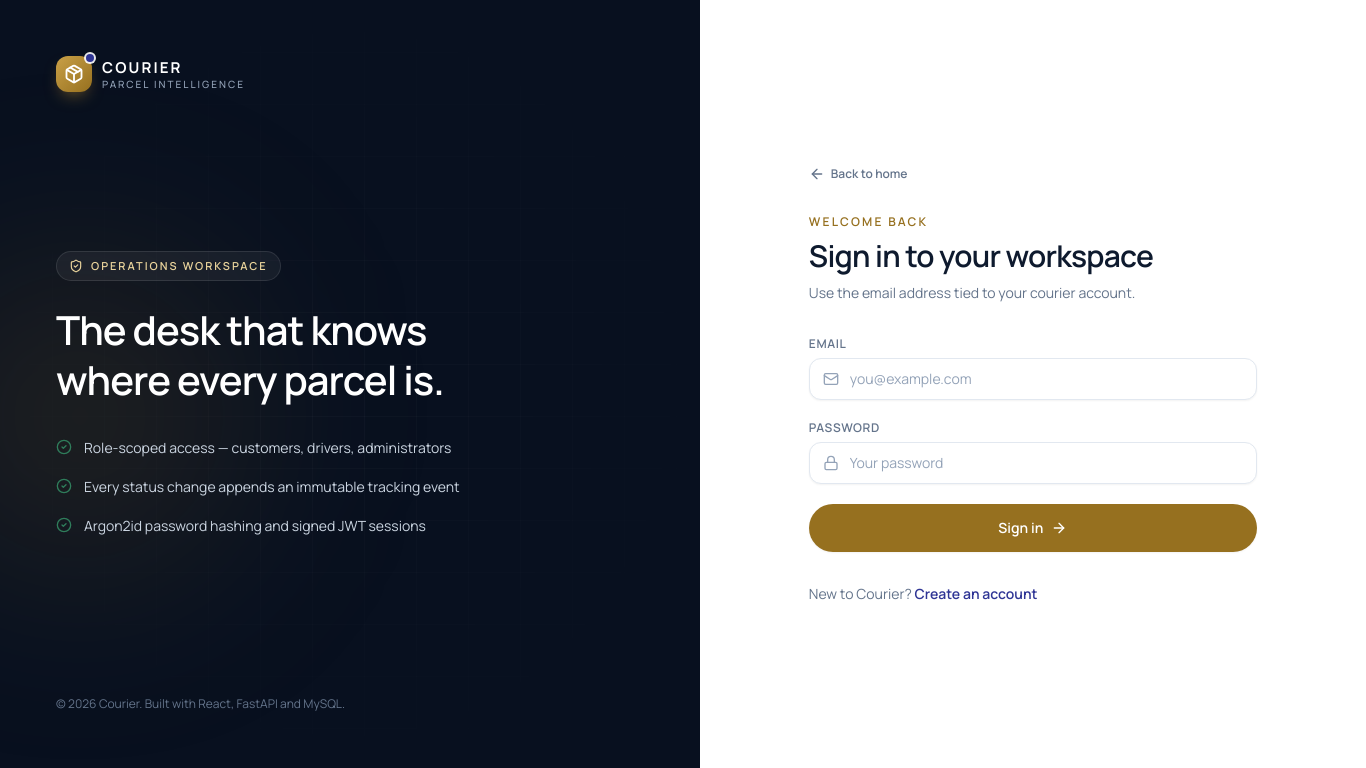
Test: LoginPage › rejects malformed email addresses
The width and height of the screenshot is (1366, 768).
Type "not-an-email" into the field labelled "Email" at [1033, 379], box [809, 358, 1257, 400]
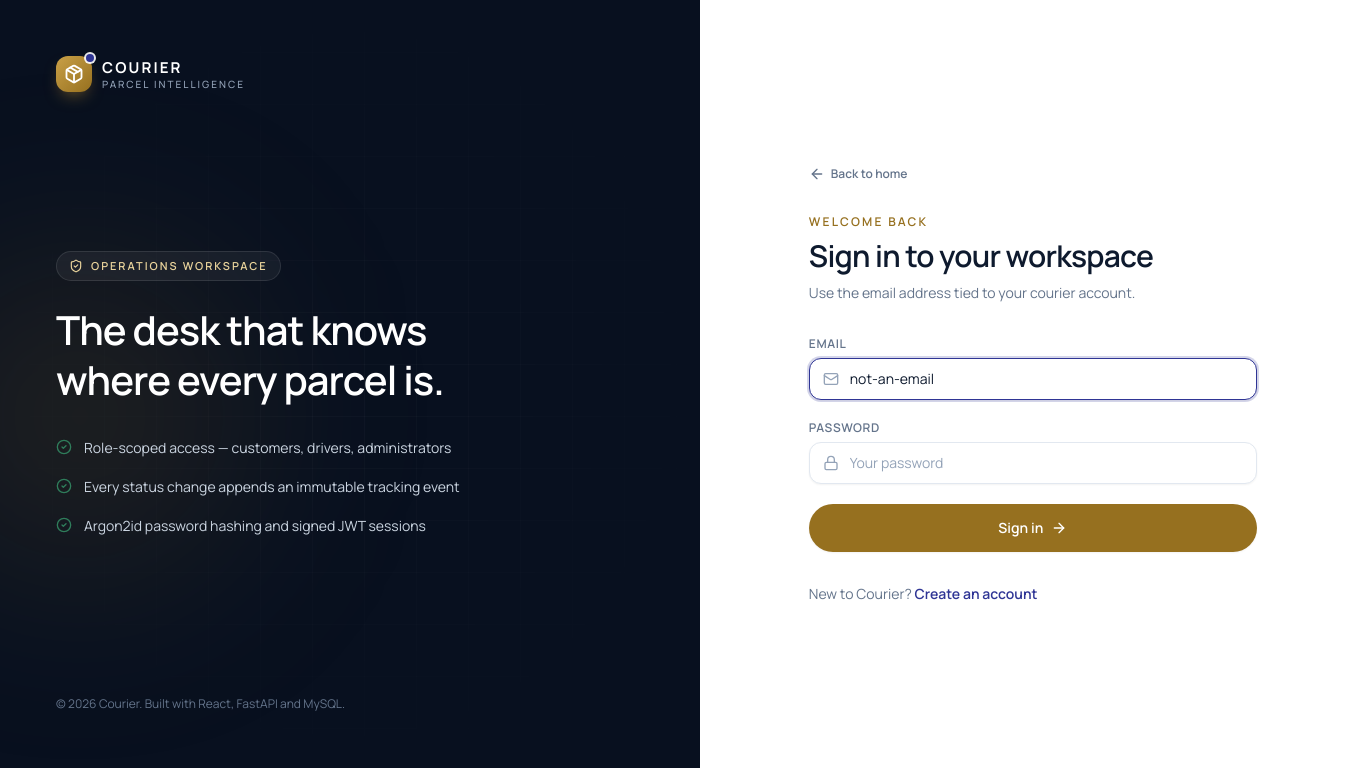
Type "Password1" into the password field labelled "Password" at [1033, 463], box [809, 442, 1257, 484]
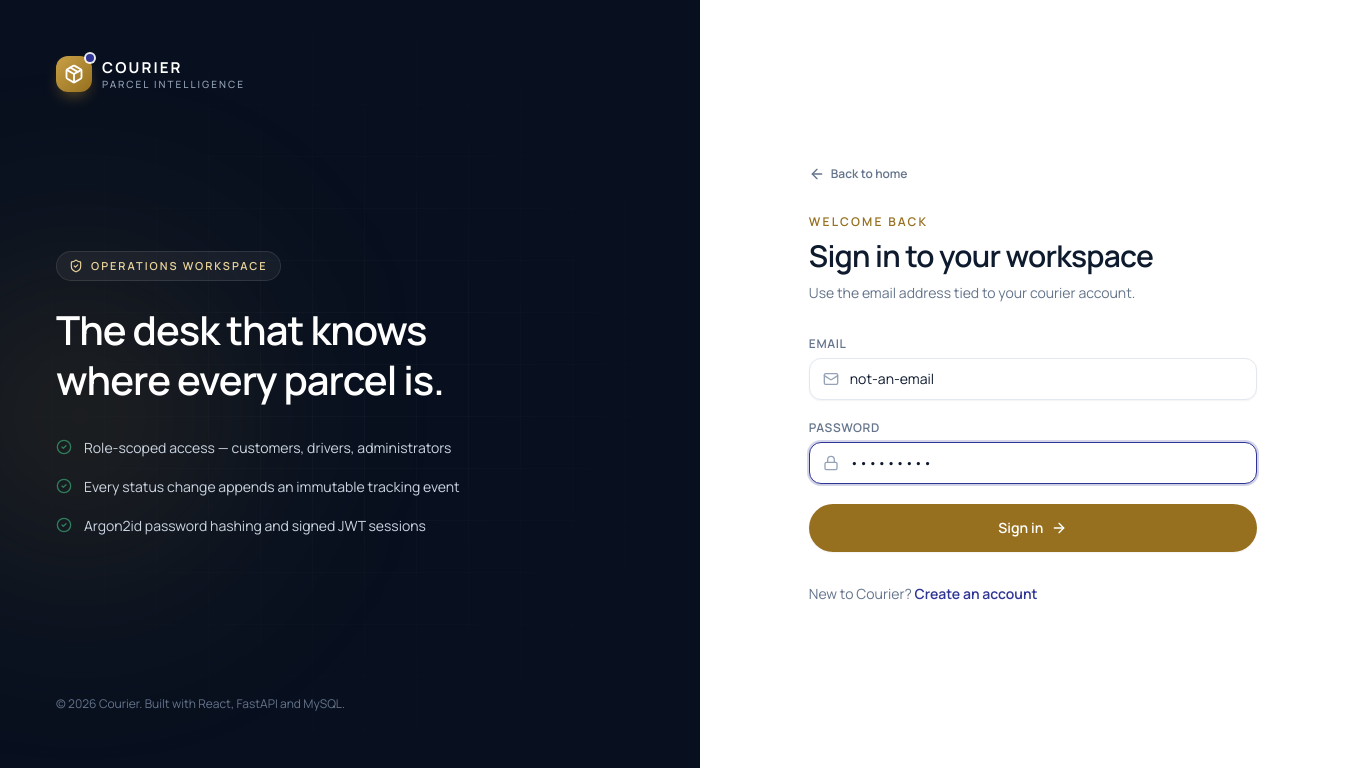
Click the button "Sign in" at [1033, 528], box [809, 504, 1257, 552]
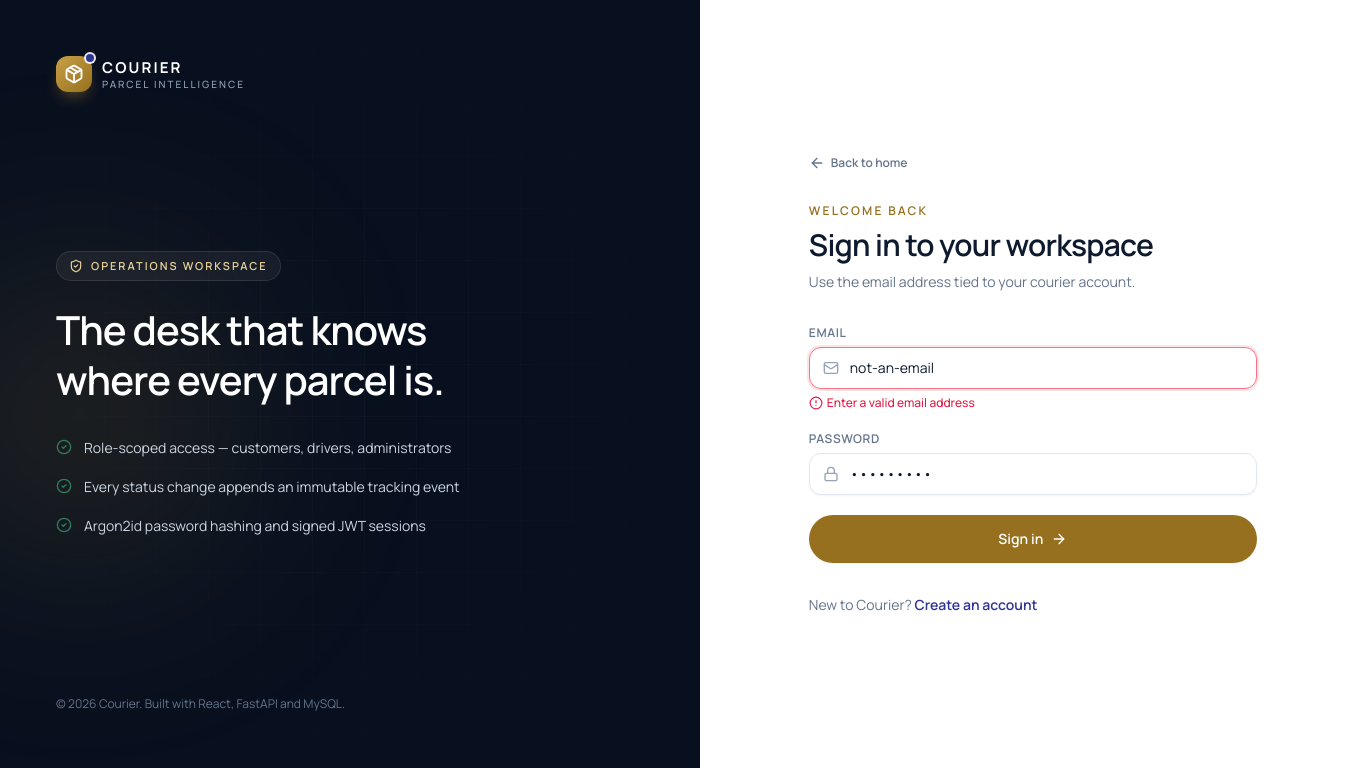
Now the text "Enter a valid email address" is shown, box [809, 394, 975, 411]
